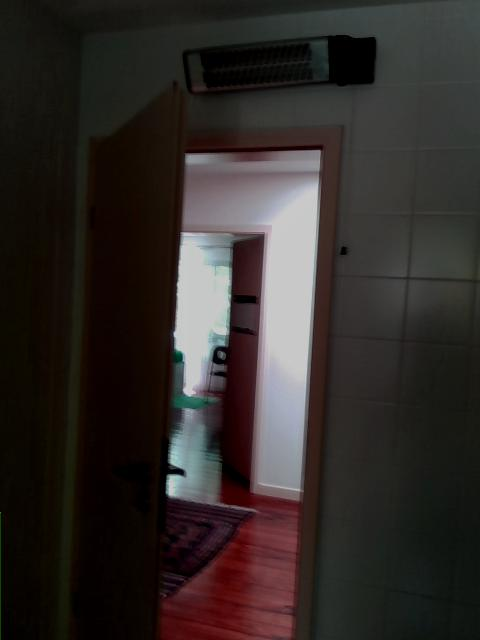semi_door: (65, 75, 346, 639)
